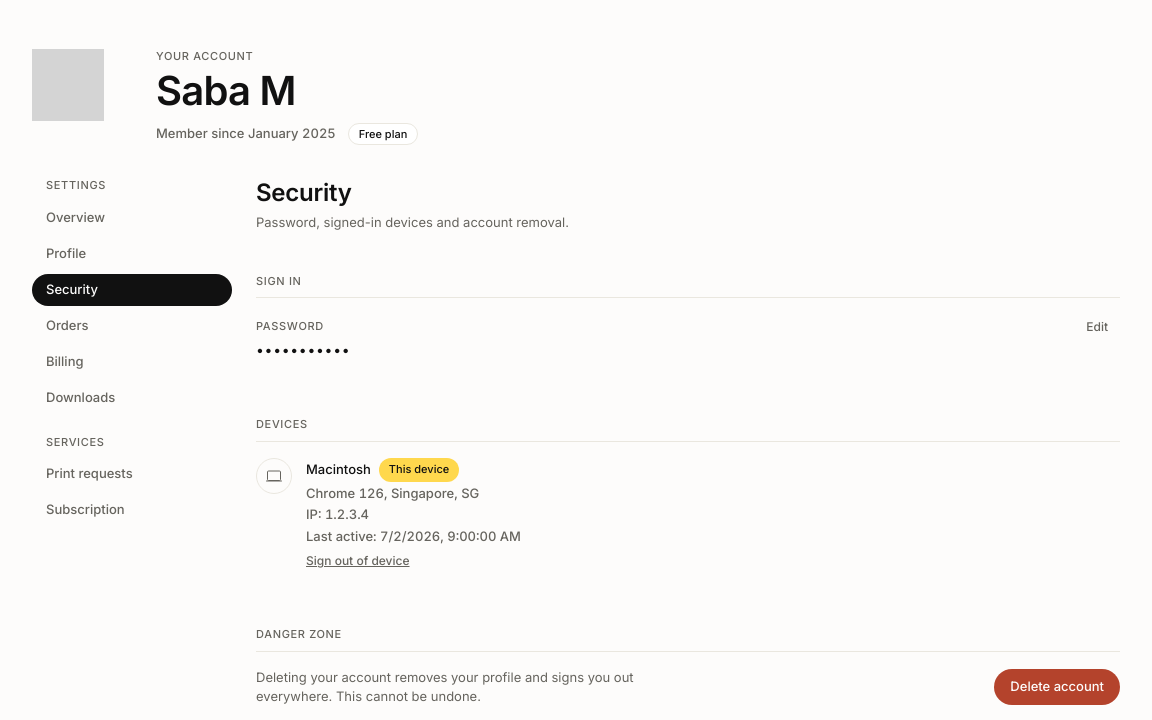
Test: Account hub › security section keeps password edit, device sign-out and delete via ConfirmDialog
Check: the text "Password" is shown, box [256,319,324,333]
Check: the text "Macintosh" is shown, box [306,460,371,479]
Note: The password row morphs in place into its inputs.
Step 1. Click the button with aria-label "Edit password" → [1097, 327], box [1074,314,1120,340]
(page scrolled)
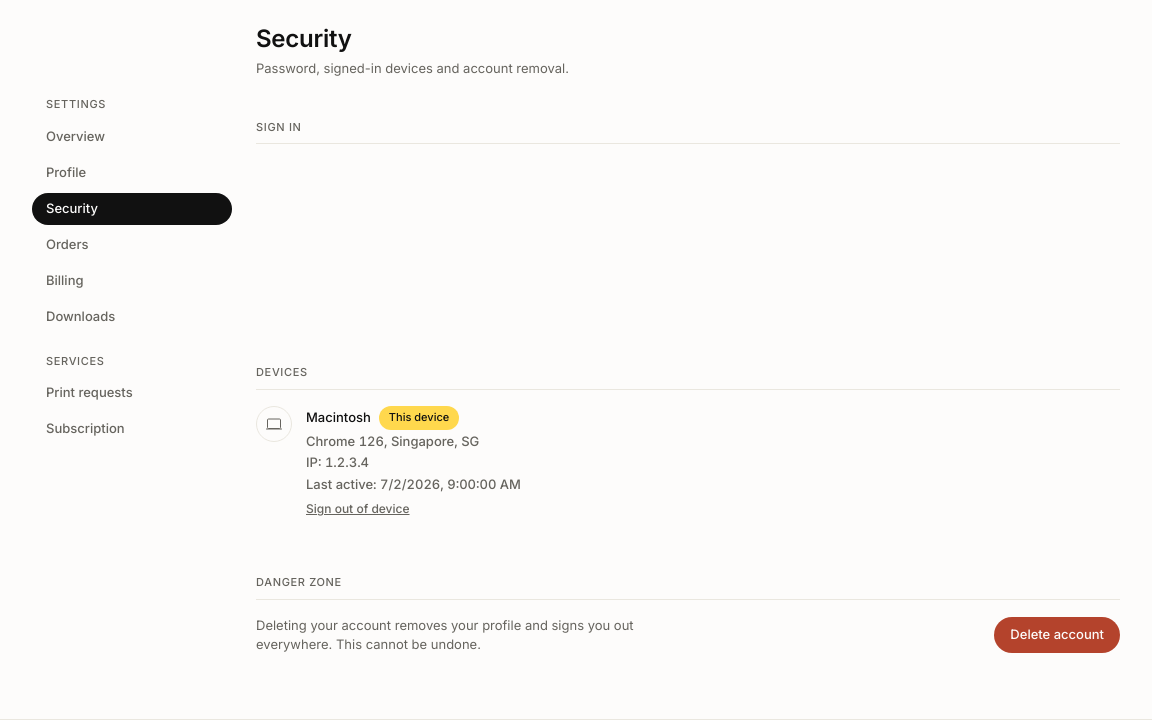
Step 2. Click the button "Delete account" → [1057, 635], box [994,617,1120,653]
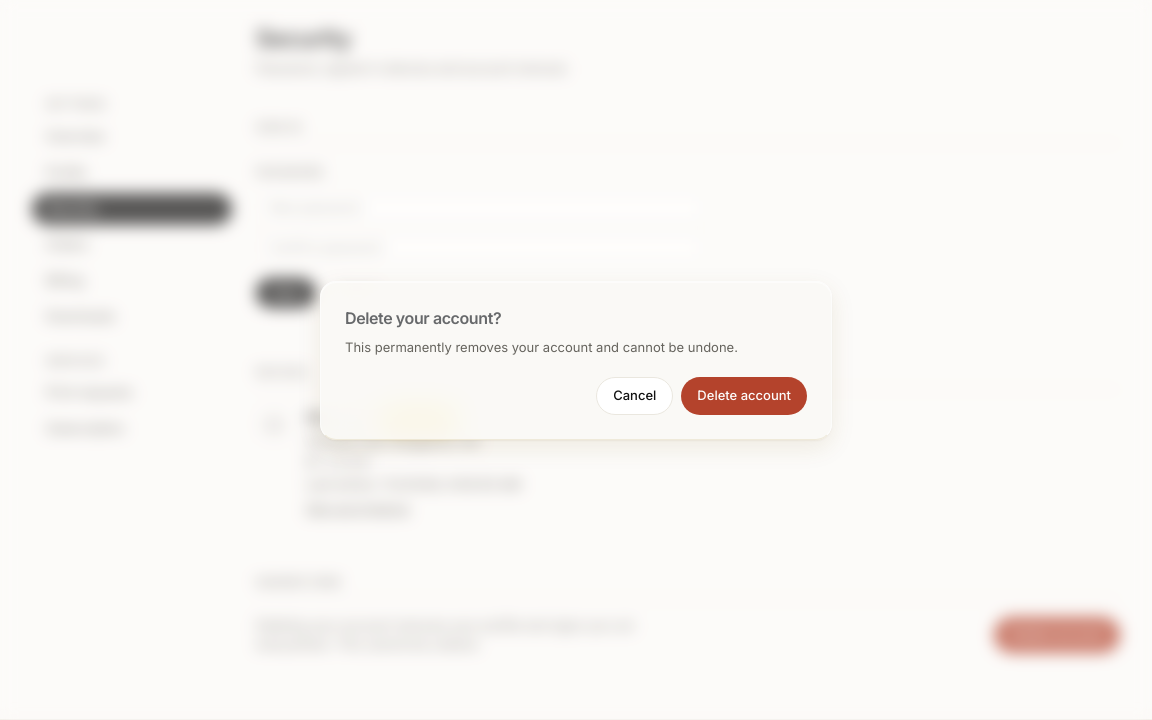
Check: the heading "Delete your account?" is shown, box [345,308,501,328]
Check: the dialog is shown
